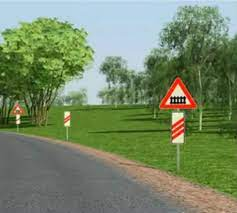1.1: (159, 77, 198, 110)
1.4.1: (170, 111, 186, 143)
1.4.2: (63, 111, 70, 126)
